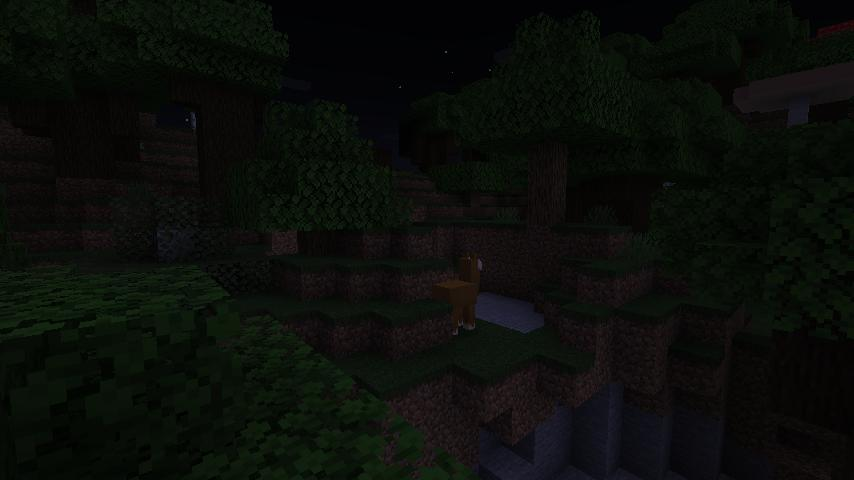llama: (438, 250, 487, 333)
